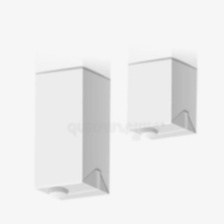carton: (29, 64, 117, 203), (122, 54, 203, 152)
